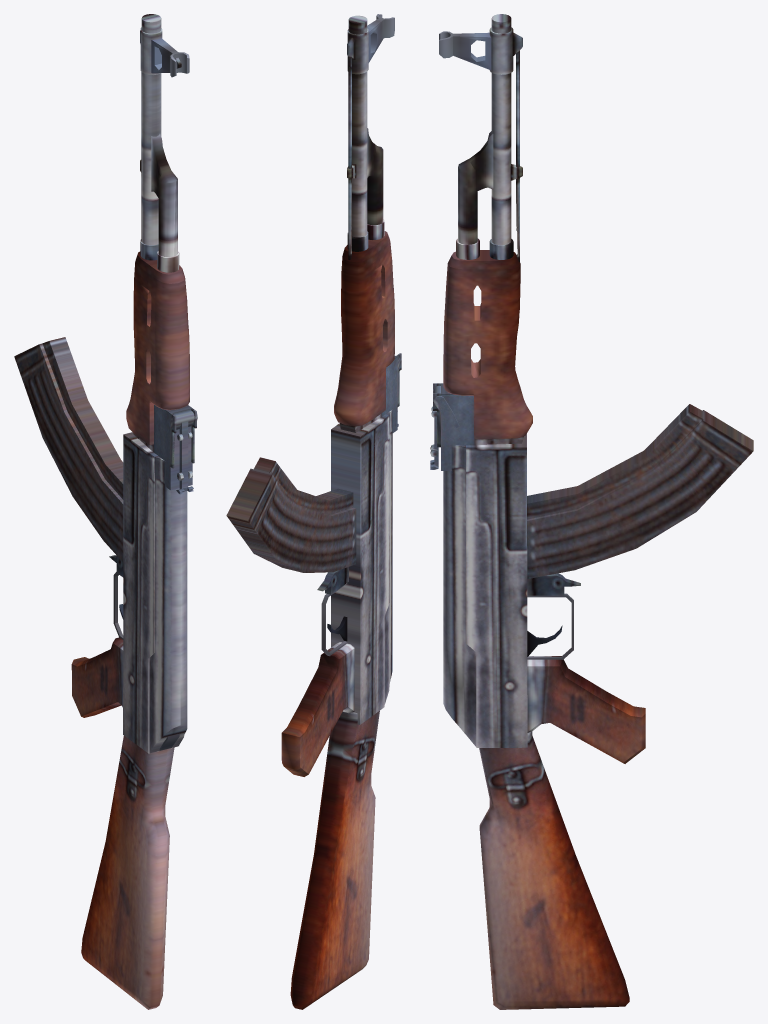
The picture shows the model from 3 angles, left to right: view 1: azimuth 30°, elevation 25°; view 2: azimuth 150°, elevation 25°; view 3: azimuth 270°, elevation 25°; orthographic projection. The views are drawn at different scales.
Visible parts, largest first — view 1: Ak47; view 2: Ak47; view 3: Ak47.
Part boxes in pixels (left/top/right/bottom): Ak47: left=14, top=14, right=197, bottom=1009; Ak47: left=226, top=14, right=401, bottom=1009; Ak47: left=430, top=14, right=753, bottom=1009.
Size of the model in its own units: 3.74 by 114 by 33.6.
